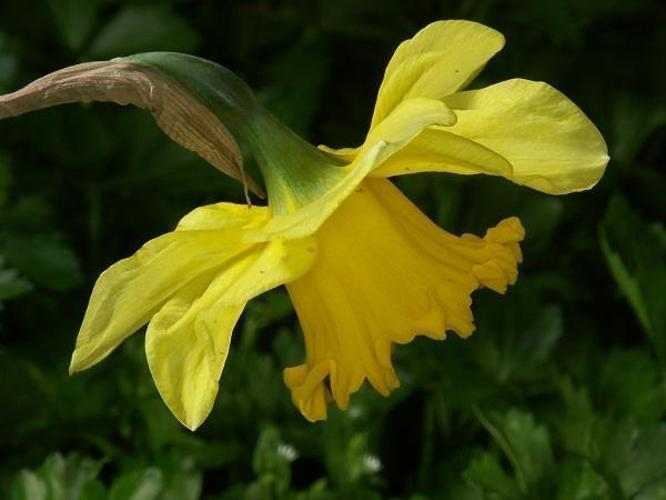flower1: (67, 18, 610, 431)
